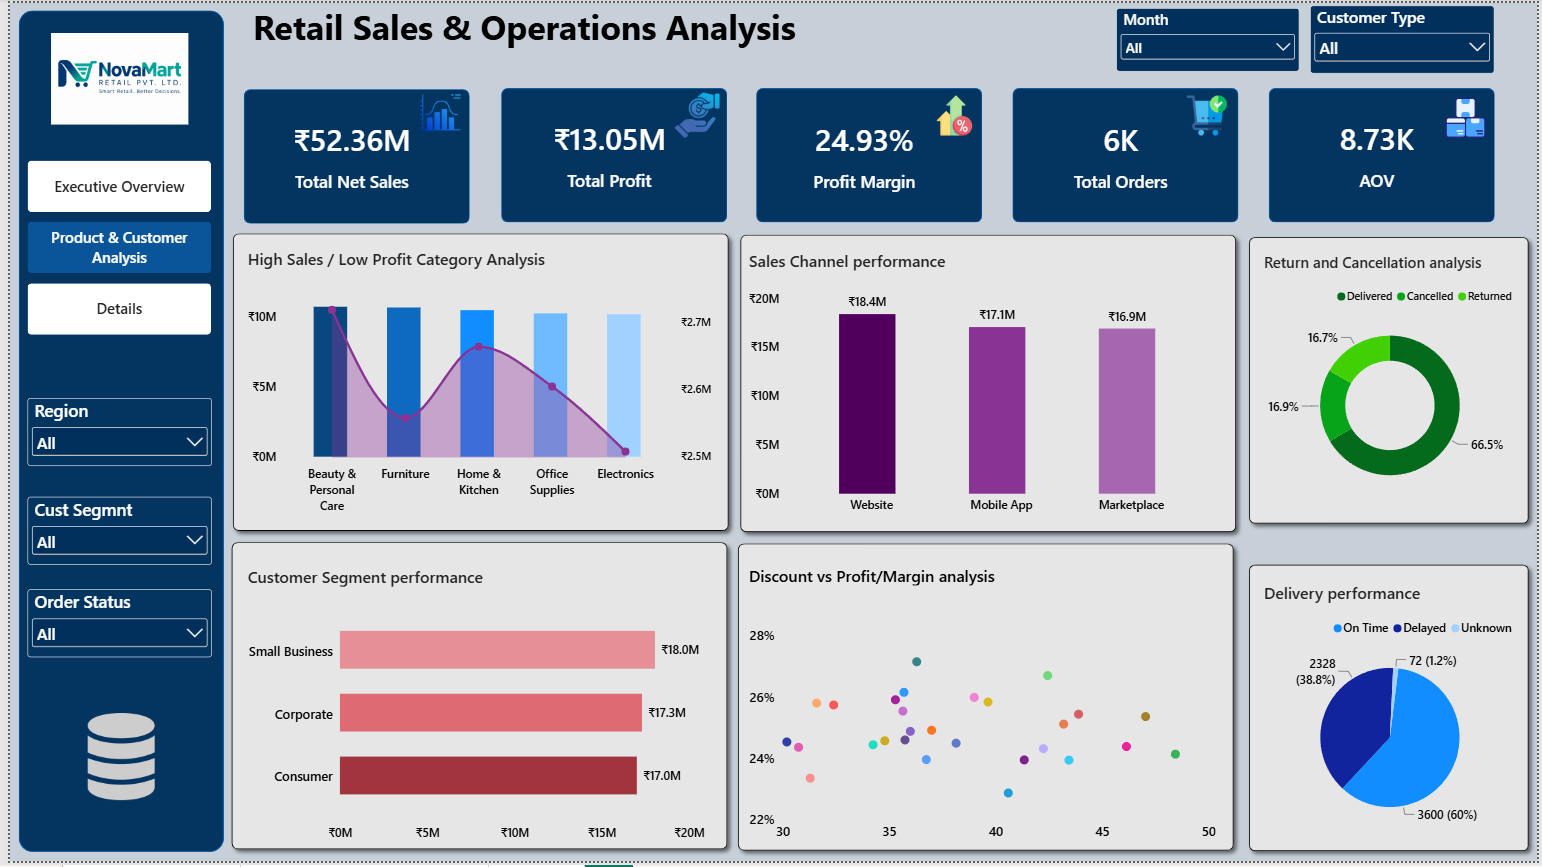

This screenshot's page, from the dashboard's own definition file:
{"tool":"powerbi","page":{"name":"Product & Customer Analysis","canvas":[1920,1080],"ordinal":1},"visuals":[{"type":"shape","box":[10.5,8.7,258.1,1058.7],"z":0},{"type":"shape","box":[617.3,107,284.3,169.2],"z":0,"group":"g3"},{"type":"shape","box":[294.8,108.8,284.3,169.2],"z":0,"group":"g1"},{"type":"shape","box":[270.4,280.6,643.6,394.2],"z":0,"group":"g2"},{"type":"shape","box":[908.8,280.7,643.6,394.2],"z":0,"group":"g4"},{"type":"shape","box":[268.8,667.9,643.6,406.4],"z":0,"group":"g7"},{"type":"shape","box":[905.4,669.7,643.6,406.4],"z":0,"group":"g9"},{"type":"textbox","box":[294.8,0,779.7,95.9],"z":1000},{"type":"cardVisual","fields":{"Data":["retail_clients.Total Net Sales"]},"box":[294.8,108.8,272.1,169.2],"z":1000,"group":"g1"},{"type":"group","id":"g1","title":"Group 1","box":[294.8,108.8,284.3,169.2],"z":2000,"group":"g14"},{"type":"group","id":"g2","title":"Group 6","box":[270.4,280.6,643.6,394.2],"z":2000,"group":"g20"},{"type":"cardVisual","fields":{"Data":["retail_clients.Total Profit"]},"box":[617.3,107,272.1,169.2],"z":3000,"group":"g3"},{"type":"group","id":"g3","title":"Group 2","box":[617.3,107,284.3,169.2],"z":3000,"group":"g13"},{"type":"group","id":"g4","title":"Group 7","box":[908.8,280.7,643.6,394.2],"z":3000,"group":"g19"},{"type":"group","id":"g5","title":"Group 3","box":[938.6,107,284.3,170.9],"z":4000,"group":"g12"},{"type":"shape","box":[938.6,107,284.3,169.2],"z":4000,"group":"g5"},{"type":"shape","box":[1548.8,284.3,371.5,380.2],"z":4000,"group":"g18"},{"type":"shape","box":[1261.2,107,284.3,169.2],"z":5000,"group":"g6"},{"type":"group","id":"g6","title":"Group 4","box":[1261.2,107,284.3,170.9],"z":5000,"group":"g10"},{"type":"group","id":"g7","title":"Group 8","box":[268.8,667.9,643.6,406.4],"z":5000,"group":"g15"},{"type":"group","id":"g8","title":"Group 5","box":[1583.7,107,284.3,169.2],"z":6000,"group":"g11"},{"type":"shape","box":[1583.7,107,284.3,169.2],"z":6000,"group":"g8"},{"type":"group","id":"g9","title":"Group 9","box":[905.4,669.7,643.6,406.4],"z":6000,"group":"g16"},{"type":"lineStackedColumnComboChart","title":"High Sales / Low Profit Category Analysis","fields":{"Category":["retail_clients.category"],"Y":["retail_clients.Total Net Sales"],"Y2":["retail_clients.Total Profit"]},"box":[282.3,294.6,619.2,366.3],"z":7000,"group":"g20"},{"type":"cardVisual","fields":{"Data":["retail_clients.Profit Margin"]},"box":[938.6,108.7,272.1,169.2],"z":7001,"group":"g5"},{"type":"cardVisual","fields":{"Data":["retail_clients.Total Orders"]},"box":[1261.2,108.7,272.1,169.2],"z":7002,"group":"g6"},{"type":"cardVisual","fields":{"Data":["retail_clients.AOV"]},"box":[1583.7,107,272.1,169.2],"z":7003,"group":"g8"},{"type":"clusteredColumnChart","title":"Sales Channel performance","fields":{"Category":["retail_clients.sales_channel"],"Y":["retail_clients.Total Net Sales"]},"box":[913.8,294.4,619.2,366.3],"z":8000,"group":"g19"},{"type":"barChart","title":"Customer Segment performance","fields":{"Category":["retail_clients.cust_segmnt"],"Y":["retail_clients.Total Net Sales"]},"box":[282.4,692.3,619.2,382],"z":9000,"group":"g15"},{"type":"scatterChart","title":"Discount vs Profit/Margin analysis","fields":{"Series":["retail_clients.product_name"],"X":["Sum(retail_clients.discount)"],"Y":["retail_clients.Profit Margin"]},"box":[913.9,691.9,619,382],"z":10000,"group":"g16"},{"type":"donutChart","title":"Return and Cancellation analysis","fields":{"Category":["retail_clients.order_status"],"Y":["retail_clients.Total Orders"]},"box":[1561,298.3,348.8,347.1],"z":11000,"group":"g18"},{"type":"shape","box":[1548.2,696.4,371.5,380.2],"z":12000,"group":"g17"},{"type":"pieChart","title":"Delivery performance ","fields":{"Category":["retail_clients.delivery_status"],"Y":["retail_clients.Total Orders"]},"box":[1560.4,713.8,348.8,348.8],"z":13000,"group":"g17"},{"type":"slicer","fields":{"Values":["retail_clients.region"]},"box":[22.7,497.1,232,85.5],"z":14000},{"type":"slicer","fields":{"Values":["retail_clients.cust_segmnt"]},"box":[22.7,620.9,232,85.5],"z":15000},{"type":"slicer","fields":{"Values":["retail_clients.order_status"]},"box":[22.7,737.8,232,85.5],"z":16000},{"type":"image","box":[22.7,38.4,232,115.1],"z":17000},{"type":"image","box":[54.1,893,172.7,109.9],"z":18000},{"type":"slicer","fields":{"Values":["retail_clients.customer_type"]},"box":[1636.1,3.5,232,85.5],"z":19000},{"type":"slicer","fields":{"Values":["Calender Date.Month Name"]},"box":[1391.9,7,230.2,80.2],"z":20000},{"type":"group","id":"g10","title":"Group 10","box":[1261.2,107,284.3,170.9],"z":21000},{"type":"group","id":"g11","title":"Group 11","box":[1583.7,107,286,169.2],"z":22000},{"type":"group","id":"g12","title":"Group 12","box":[938.6,107,284.3,170.9],"z":23000},{"type":"group","id":"g13","title":"Group 13","box":[617.3,107,284.3,169.2],"z":24000},{"type":"group","id":"g14","title":"Group 14","box":[294.8,108.8,284.3,169.2],"z":25000},{"type":"image","box":[511.1,112.3,61,52.3],"z":26000,"group":"g14"},{"type":"pageNavigator","box":[22.7,198.8,232,221.5],"z":26000},{"type":"group","id":"g15","title":"Group 15","box":[268.8,667.9,643.6,406.4],"z":26001},{"type":"group","id":"g16","title":"Group 16","box":[905.4,669.7,643.6,406.4],"z":26002},{"type":"group","id":"g17","title":"Group 17","box":[1548.2,696.4,371.5,380.2],"z":26003},{"type":"group","id":"g18","title":"Group 18","box":[1548.8,284.3,371.5,380.2],"z":26004},{"type":"group","id":"g19","title":"Group 19","box":[908.8,280.7,643.6,394.2],"z":26005},{"type":"group","id":"g20","title":"Group 20","box":[270.4,280.6,643.6,394.2],"z":26006},{"type":"image","box":[832.3,112.2,62.8,59.3],"z":27000,"group":"g13"},{"type":"image","box":[1161,115.7,55.8,50.6],"z":28000,"group":"g12"},{"type":"image","box":[1478.8,115.7,55.8,50.6],"z":29000,"group":"g10"},{"type":"image","box":[1793,115.7,76.7,55.8],"z":30000,"group":"g11"}]}

Visuals, with their boxes in screenshot pixels (x1, y1, x2, y2), scaled from the page's 1920x1080 canvas onto the 1542x867 screenshot:
shape: (x1=8, y1=7, x2=216, y2=857)
shape: (x1=496, y1=86, x2=724, y2=222)
shape: (x1=237, y1=87, x2=465, y2=223)
shape: (x1=217, y1=225, x2=734, y2=542)
shape: (x1=730, y1=225, x2=1247, y2=542)
shape: (x1=216, y1=536, x2=733, y2=862)
shape: (x1=727, y1=538, x2=1244, y2=864)
textbox: (x1=237, y1=0, x2=863, y2=77)
cardVisual - retail_clients.Total Net Sales: (x1=237, y1=87, x2=455, y2=223)
"Group 1" group: (x1=237, y1=87, x2=465, y2=223)
"Group 6" group: (x1=217, y1=225, x2=734, y2=542)
cardVisual - retail_clients.Total Profit: (x1=496, y1=86, x2=714, y2=222)
"Group 2" group: (x1=496, y1=86, x2=724, y2=222)
"Group 7" group: (x1=730, y1=225, x2=1247, y2=542)
"Group 3" group: (x1=754, y1=86, x2=982, y2=223)
shape: (x1=754, y1=86, x2=982, y2=222)
shape: (x1=1244, y1=228, x2=1541, y2=533)
shape: (x1=1013, y1=86, x2=1241, y2=222)
"Group 4" group: (x1=1013, y1=86, x2=1241, y2=223)
"Group 8" group: (x1=216, y1=536, x2=733, y2=862)
"Group 5" group: (x1=1272, y1=86, x2=1500, y2=222)
shape: (x1=1272, y1=86, x2=1500, y2=222)
"Group 9" group: (x1=727, y1=538, x2=1244, y2=864)
"High Sales / Low Profit Category Analysis" lineStackedColumnComboChart: (x1=227, y1=236, x2=724, y2=531)
cardVisual - retail_clients.Profit Margin: (x1=754, y1=87, x2=972, y2=223)
cardVisual - retail_clients.Total Orders: (x1=1013, y1=87, x2=1231, y2=223)
cardVisual - retail_clients.AOV: (x1=1272, y1=86, x2=1490, y2=222)
"Sales Channel performance" clusteredColumnChart: (x1=734, y1=236, x2=1231, y2=530)
"Customer Segment performance" barChart: (x1=227, y1=556, x2=724, y2=862)
"Discount vs Profit/Margin analysis" scatterChart: (x1=734, y1=555, x2=1231, y2=862)
"Return and Cancellation analysis" donutChart: (x1=1254, y1=239, x2=1534, y2=518)
shape: (x1=1243, y1=559, x2=1541, y2=864)
"Delivery performance " pieChart: (x1=1253, y1=573, x2=1533, y2=853)
slicer - retail_clients.region: (x1=18, y1=399, x2=205, y2=468)
slicer - retail_clients.cust_segmnt: (x1=18, y1=498, x2=205, y2=567)
slicer - retail_clients.order_status: (x1=18, y1=592, x2=205, y2=661)
image: (x1=18, y1=31, x2=205, y2=123)
image: (x1=43, y1=717, x2=182, y2=805)
slicer - retail_clients.customer_type: (x1=1314, y1=3, x2=1500, y2=71)
slicer - Calender Date.Month Name: (x1=1118, y1=6, x2=1303, y2=70)
"Group 10" group: (x1=1013, y1=86, x2=1241, y2=223)
"Group 11" group: (x1=1272, y1=86, x2=1502, y2=222)
"Group 12" group: (x1=754, y1=86, x2=982, y2=223)
"Group 13" group: (x1=496, y1=86, x2=724, y2=222)
"Group 14" group: (x1=237, y1=87, x2=465, y2=223)
image: (x1=410, y1=90, x2=459, y2=132)
pageNavigator: (x1=18, y1=160, x2=205, y2=337)
"Group 15" group: (x1=216, y1=536, x2=733, y2=862)
"Group 16" group: (x1=727, y1=538, x2=1244, y2=864)
"Group 17" group: (x1=1243, y1=559, x2=1541, y2=864)
"Group 18" group: (x1=1244, y1=228, x2=1541, y2=533)
"Group 19" group: (x1=730, y1=225, x2=1247, y2=542)
"Group 20" group: (x1=217, y1=225, x2=734, y2=542)
image: (x1=668, y1=90, x2=719, y2=138)
image: (x1=932, y1=93, x2=977, y2=134)
image: (x1=1188, y1=93, x2=1232, y2=134)
image: (x1=1440, y1=93, x2=1502, y2=138)
